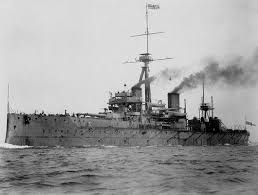tau_muctieu: (6, 51, 253, 155)
